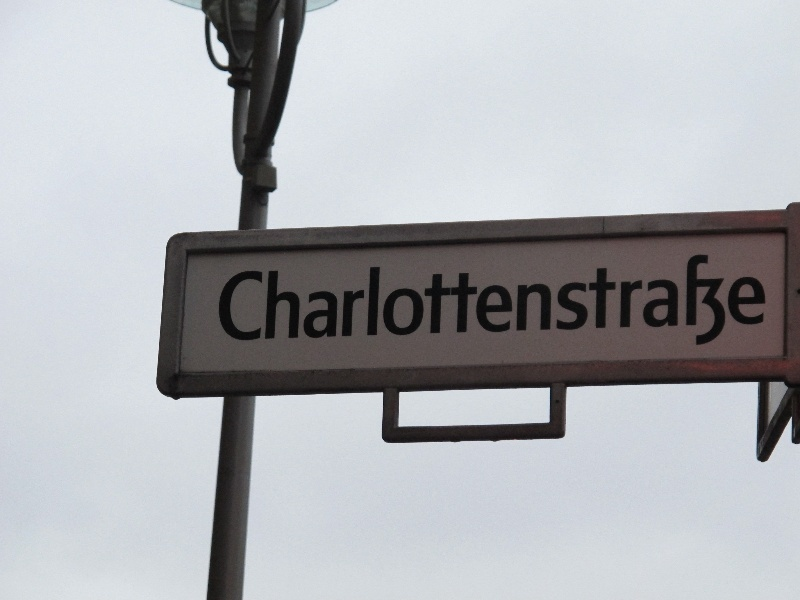text: (225, 251, 240, 348), (241, 251, 256, 348), (257, 251, 272, 348), (273, 251, 288, 348), (289, 251, 304, 348), (305, 251, 320, 348), (321, 251, 336, 348), (337, 251, 352, 348), (353, 251, 368, 348), (369, 251, 384, 348), (385, 251, 400, 348), (401, 251, 416, 348), (417, 251, 432, 348), (433, 251, 448, 348), (449, 251, 464, 348), (465, 251, 480, 348), (481, 251, 496, 348), (497, 251, 512, 348), (513, 251, 528, 348), (529, 251, 544, 348), (545, 251, 560, 348), (561, 251, 576, 348), (577, 251, 592, 348), (593, 251, 608, 348), (609, 251, 624, 348), (625, 251, 640, 348), (641, 251, 656, 348), (657, 251, 672, 348), (673, 251, 688, 348), (689, 251, 704, 348), (705, 251, 720, 348), (721, 251, 736, 348), (737, 251, 752, 348), (753, 251, 767, 348), (218, 251, 224, 348)
